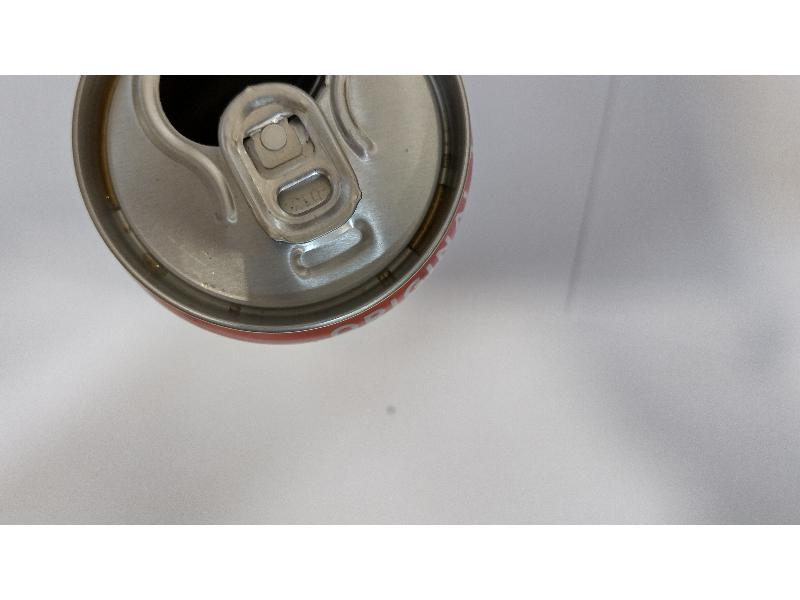can: (61, 75, 488, 358)
